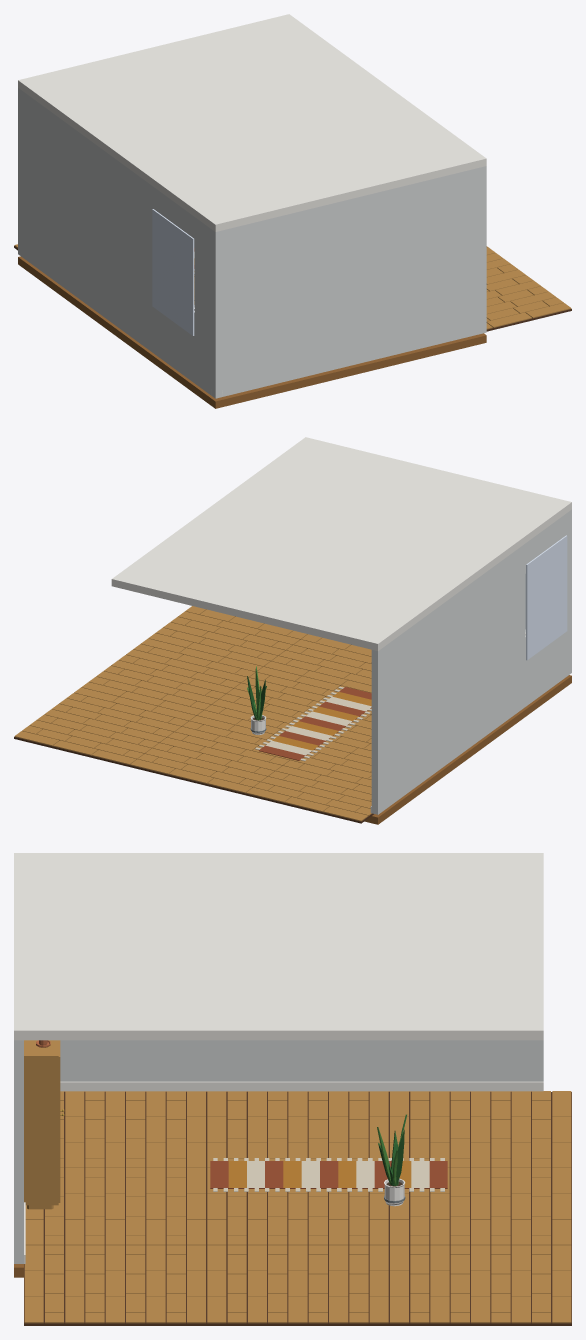
The model's file is SM_LPI_Room_Landing.fbx.
3 renders of one model, top to bottom at view 1: azimuth 30°, elevation 25°; view 2: azimuth 150°, elevation 25°; view 3: azimuth 270°, elevation 25°, orthographic. The views are drawn at different scales.
Parts seen in each view (by area): view 1: SM_LPI_Room_Landing, SM_LPI_Room_LandingGlass, SM_LPI_Floor_PlankOak_03.007; view 2: SM_LPI_Room_Landing, SM_LPI_Floor_PlankOak_03.009, SM_LPI_Floor_PlankOak_03.008, SM_LPI_Floor_PlankOak_03.006, SM_LPI_Floor_PlankOak_03.003, SM_LPI_Floor_PlankOak_03.007, SM_LPI_Floor_PlankOak_03.005, SM_LPI_Room_LandingGlass, SM_LPI_Text_RugRunner_01.001, SM_LPI_Floor_PlankOak_03.004, SM_LPI_Floor_PlankOak_03.002, SM_LPI_Plant_SnakePlant_01.001; view 3: SM_LPI_Room_Landing, SM_LPI_Floor_PlankOak_03.008, SM_LPI_Floor_PlankOak_03.009, SM_LPI_Floor_PlankOak_03.007, SM_LPI_Floor_PlankOak_03.003, SM_LPI_Floor_PlankOak_03.004, SM_LPI_Floor_PlankOak_03.006, SM_LPI_Floor_PlankOak_03.002, SM_LPI_Floor_PlankOak_03.001, SM_LPI_Floor_PlankOak_03.005, SM_LPI_Text_RugRunner_01.001, SM_LPI_Storage_Cabinet_01.001 (+1 smaller).
Boxes of the visible parts, x1,y1,x2,y2 form: SM_LPI_Room_Landing: [18, 14, 486, 408]; SM_LPI_Room_LandingGlass: [152, 209, 194, 335]; SM_LPI_Floor_PlankOak_03.007: [486, 258, 571, 331]; SM_LPI_Room_Landing: [111, 437, 571, 824]; SM_LPI_Floor_PlankOak_03.009: [14, 687, 195, 766]; SM_LPI_Floor_PlankOak_03.008: [81, 638, 262, 715]; SM_LPI_Floor_PlankOak_03.006: [129, 716, 291, 795]; SM_LPI_Floor_PlankOak_03.003: [245, 746, 373, 823]; SM_LPI_Floor_PlankOak_03.007: [148, 606, 307, 666]; SM_LPI_Floor_PlankOak_03.005: [197, 667, 364, 734]; SM_LPI_Room_LandingGlass: [525, 535, 567, 660]; SM_LPI_Text_RugRunner_01.001: [255, 686, 371, 761]; SM_LPI_Floor_PlankOak_03.004: [264, 634, 371, 692]; SM_LPI_Floor_PlankOak_03.002: [322, 708, 371, 758]; SM_LPI_Plant_SnakePlant_01.001: [247, 666, 266, 734]; SM_LPI_Room_Landing: [14, 853, 543, 1277]; SM_LPI_Floor_PlankOak_03.008: [206, 1245, 389, 1325]; SM_LPI_Floor_PlankOak_03.009: [389, 1245, 571, 1325]; SM_LPI_Floor_PlankOak_03.007: [24, 1245, 206, 1325]; SM_LPI_Floor_PlankOak_03.003: [389, 1091, 571, 1168]; SM_LPI_Floor_PlankOak_03.004: [25, 1168, 206, 1246]; SM_LPI_Floor_PlankOak_03.006: [389, 1168, 571, 1246]; SM_LPI_Floor_PlankOak_03.002: [206, 1091, 389, 1168]; SM_LPI_Floor_PlankOak_03.001: [60, 1091, 206, 1168]; SM_LPI_Floor_PlankOak_03.005: [206, 1168, 389, 1246]; SM_LPI_Text_RugRunner_01.001: [210, 1158, 447, 1191]; SM_LPI_Storage_Cabinet_01.001: [24, 1040, 64, 1209].
Bounding box in the file's own units: 6.26 × 2.98 × 6.11.
